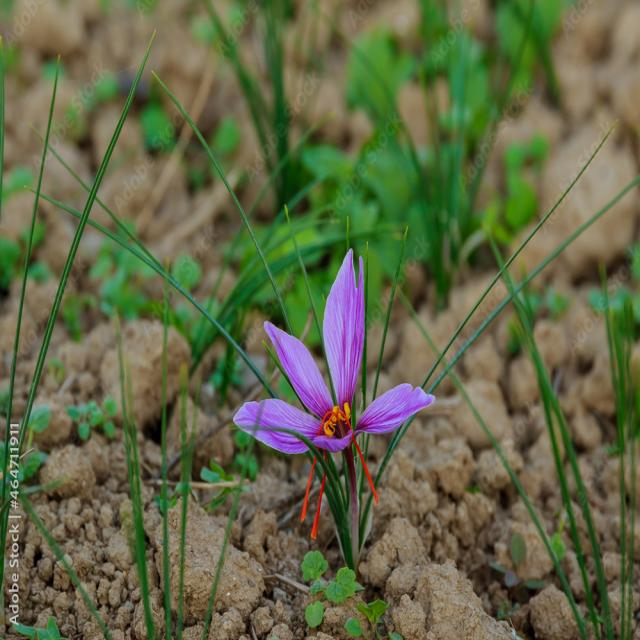saffron open: (234, 249, 433, 503)
